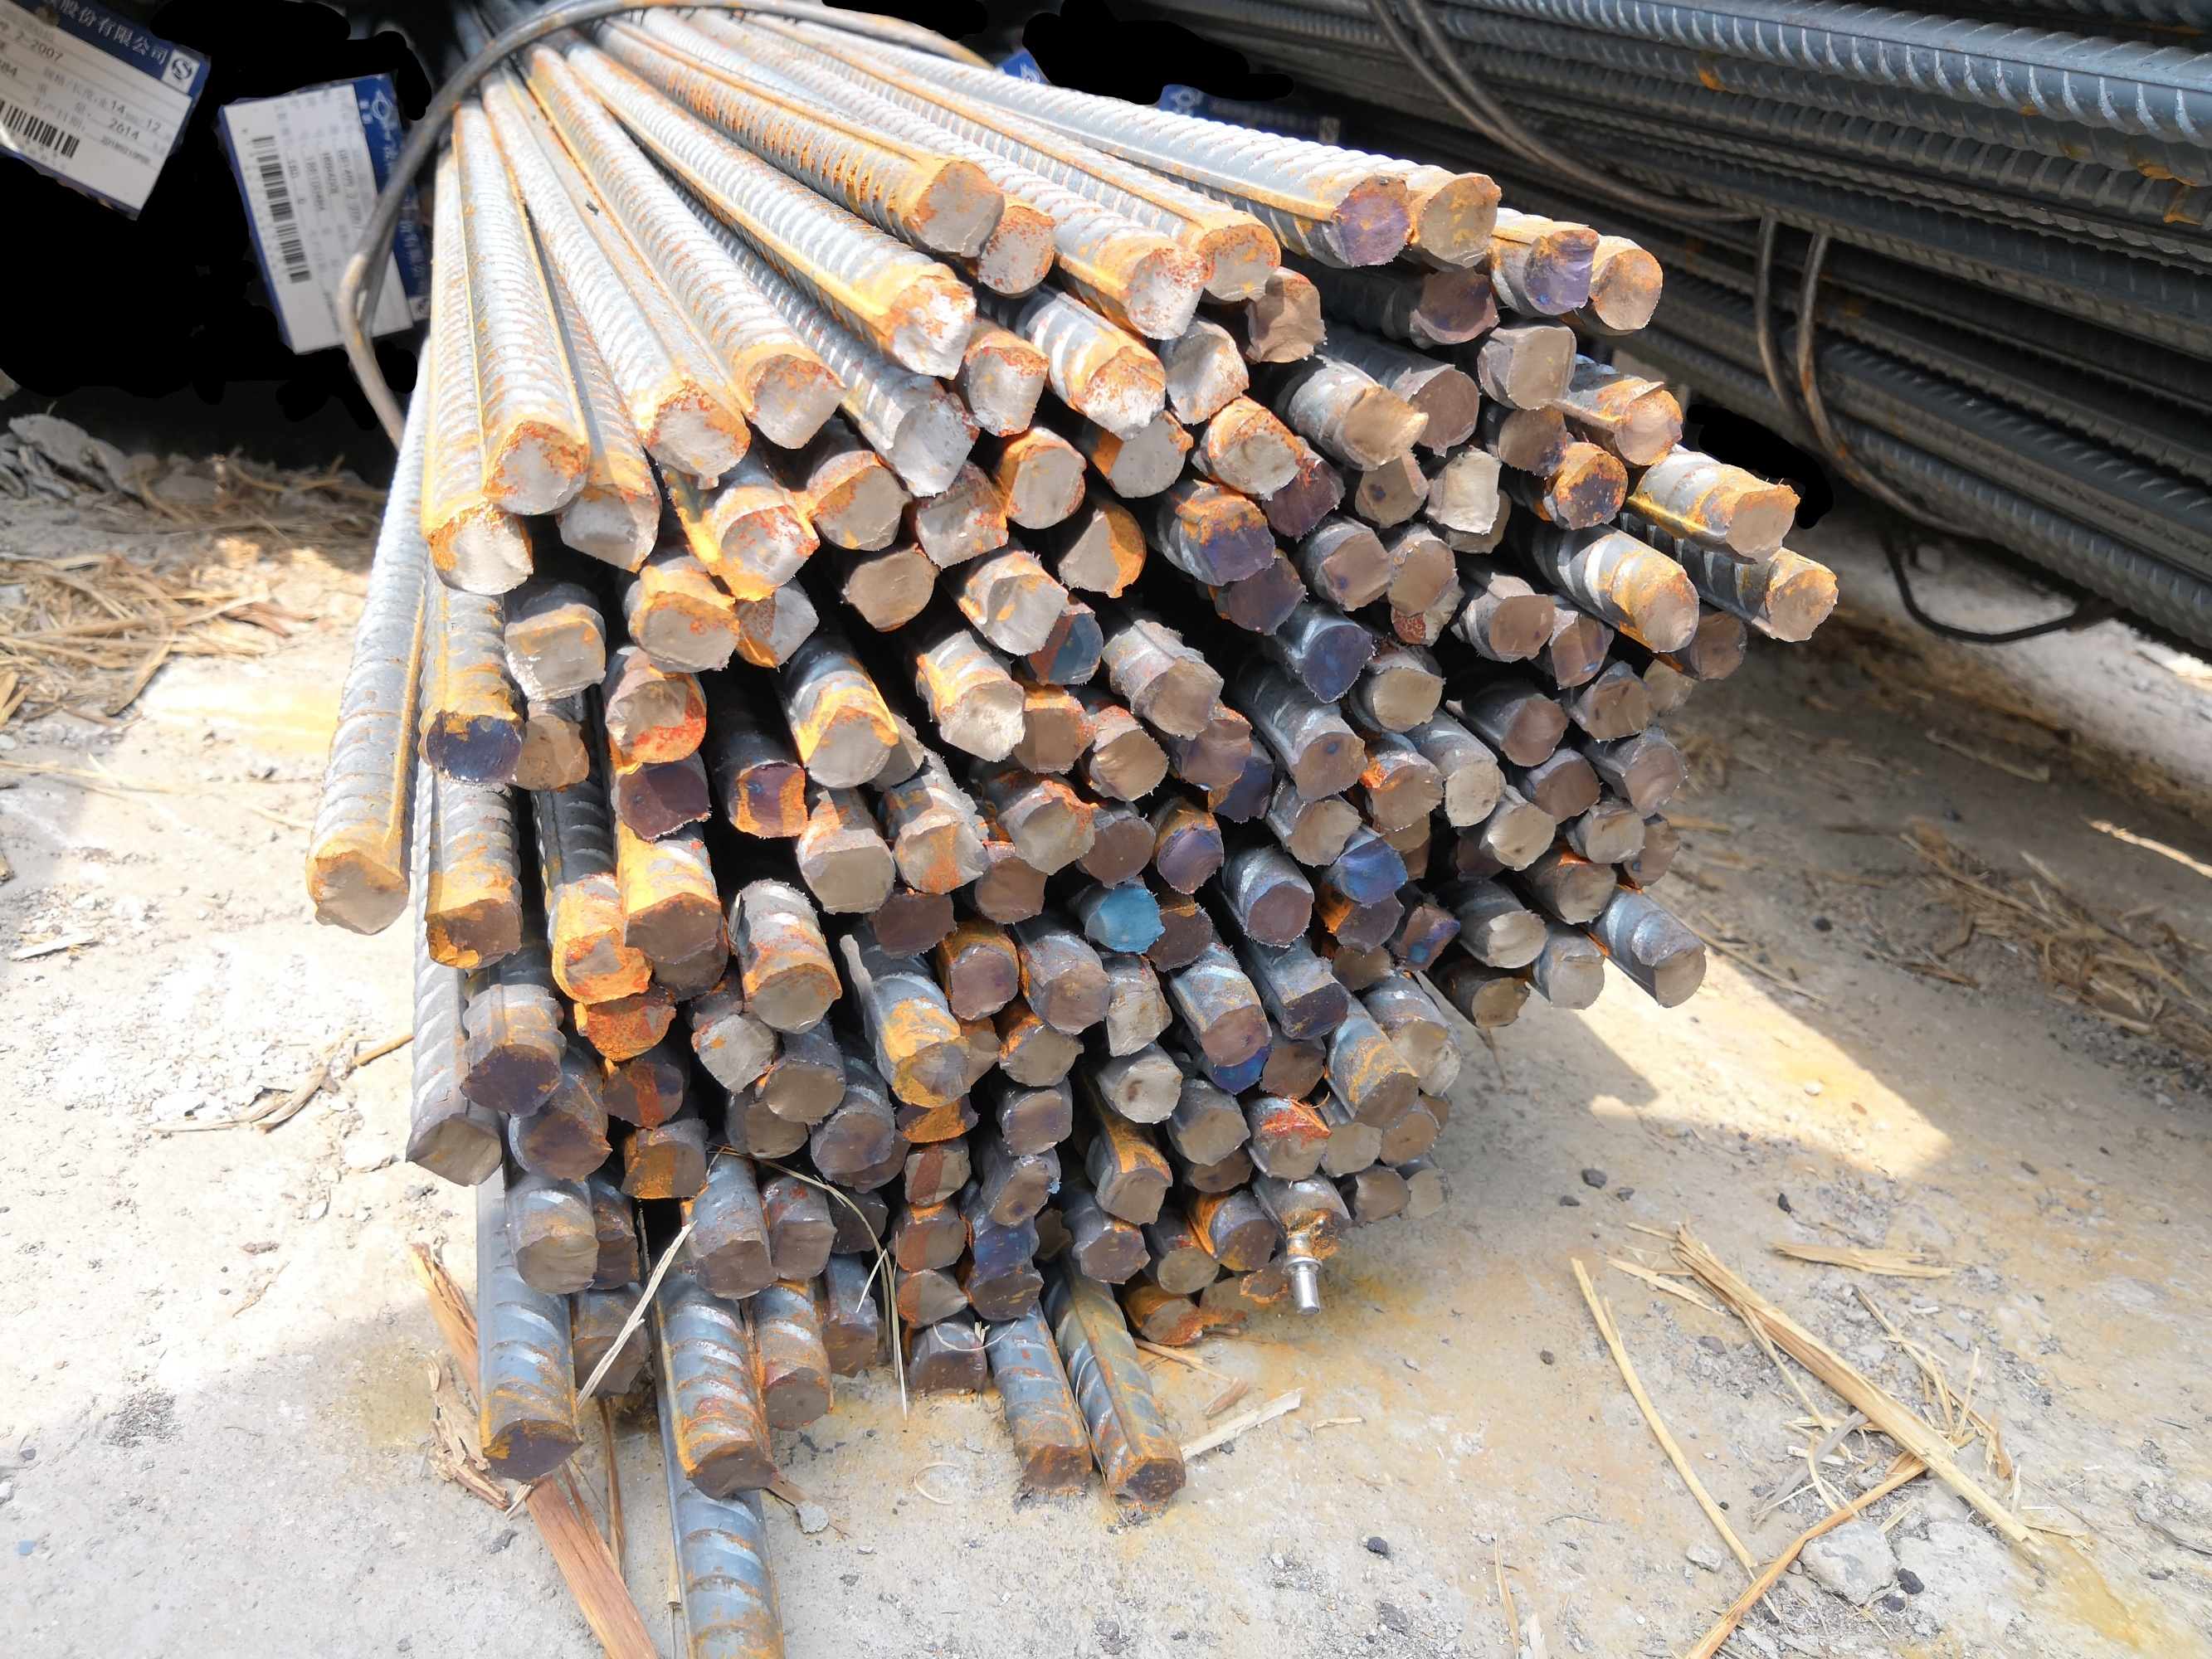rebar: (631, 378, 751, 491), (701, 502, 823, 606), (474, 416, 593, 521), (875, 390, 985, 498), (736, 350, 847, 455), (910, 458, 1013, 572), (424, 497, 537, 598), (873, 277, 981, 382), (901, 153, 1006, 261), (608, 748, 718, 845), (554, 479, 662, 577), (601, 667, 709, 765), (633, 586, 746, 676), (1316, 173, 1417, 272), (303, 847, 411, 938), (1124, 648, 1227, 742), (1208, 406, 1311, 500), (795, 699, 899, 791), (1328, 380, 1435, 471), (807, 462, 915, 551), (1112, 246, 1210, 343), (959, 340, 1055, 439), (500, 617, 608, 704), (837, 545, 945, 633), (506, 1101, 617, 1185), (418, 699, 526, 784), (1157, 331, 1253, 427), (966, 204, 1063, 298), (1096, 410, 1198, 500), (966, 572, 1072, 657), (995, 439, 1089, 535), (1079, 345, 1173, 441), (934, 676, 1032, 767), (1055, 509, 1152, 599), (455, 1040, 565, 1121), (1417, 166, 1503, 268), (1520, 214, 1602, 319), (1408, 260, 1506, 347), (743, 958, 845, 1040), (619, 889, 729, 965), (553, 925, 657, 1006), (1422, 444, 1508, 542), (896, 816, 995, 899), (725, 589, 824, 673), (727, 751, 814, 845), (1236, 279, 1330, 366), (1074, 873, 1170, 958), (1401, 362, 1487, 458), (570, 990, 682, 1063), (418, 896, 525, 972), (798, 840, 899, 920), (1260, 451, 1346, 545), (478, 1410, 582, 1486), (1288, 619, 1379, 706), (1217, 554, 1311, 638), (1313, 523, 1398, 613), (1192, 220, 1285, 303), (406, 1110, 506, 1187), (1719, 483, 1804, 570), (1009, 795, 1098, 878), (1499, 324, 1583, 413), (1583, 244, 1666, 333), (511, 708, 593, 798), (1014, 608, 1105, 690), (1002, 704, 1100, 779), (938, 939, 1023, 1025), (689, 1009, 776, 1093), (1192, 500, 1276, 587), (865, 889, 964, 962), (682, 1432, 783, 1504), (753, 1053, 849, 1127), (1086, 725, 1175, 805), (1166, 714, 1255, 795), (1612, 734, 1693, 823), (641, 934, 737, 1007), (1490, 397, 1576, 479), (1276, 791, 1365, 870), (1626, 568, 1705, 657), (593, 1058, 687, 1131), (692, 1234, 788, 1305), (1487, 692, 1572, 772), (1349, 450, 1438, 526), (809, 1100, 894, 1178), (1074, 812, 1159, 890), (1286, 727, 1372, 805), (1609, 383, 1687, 469), (994, 1019, 1089, 1089), (511, 1225, 601, 1298), (1576, 666, 1656, 748), (1365, 657, 1450, 734), (1762, 566, 1842, 645), (892, 1032, 974, 1108), (617, 1138, 709, 1206), (1365, 758, 1449, 833), (1389, 533, 1461, 620), (1138, 899, 1217, 978), (1480, 587, 1557, 667), (969, 852, 1051, 927), (1551, 450, 1626, 532), (760, 1211, 844, 1284), (1274, 1201, 1358, 1274), (1480, 798, 1564, 871), (758, 1363, 838, 1438), (1388, 897, 1462, 978), (889, 1265, 974, 1335), (1548, 606, 1618, 692), (1105, 1445, 1192, 1513), (1037, 958, 1112, 1037), (1074, 1216, 1154, 1290), (1103, 1058, 1185, 1129), (1686, 599, 1752, 687), (1201, 755, 1278, 829), (567, 1328, 645, 1401), (983, 1154, 1062, 1227), (1475, 901, 1553, 974), (1103, 985, 1178, 1060), (1241, 877, 1316, 951), (1394, 570, 1466, 648), (1527, 753, 1605, 824), (1170, 1103, 1253, 1169), (1096, 1157, 1173, 1229), (1330, 835, 1410, 903), (889, 1208, 973, 1272), (1002, 1084, 1074, 1159), (1198, 1002, 1276, 1070), (1330, 889, 1410, 955), (966, 1262, 1048, 1326), (1550, 856, 1621, 929), (1157, 821, 1227, 896), (835, 1133, 913, 1199), (739, 1093, 812, 1162), (1447, 486, 1517, 558), (868, 713, 927, 796), (1016, 1434, 1093, 1499), (1440, 751, 1503, 829), (899, 1089, 985, 1147), (1259, 1033, 1328, 1103), (910, 1340, 988, 1401), (971, 1209, 1049, 1270), (1346, 1070, 1424, 1131), (1276, 978, 1354, 1039), (1257, 1119, 1328, 1185), (816, 1312, 880, 1385), (1625, 814, 1686, 890), (903, 1141, 971, 1209), (1346, 1162, 1414, 1230), (1541, 945, 1609, 1012), (1386, 1007, 1450, 1079), (1647, 938, 1712, 1009), (1579, 802, 1649, 866), (1314, 1114, 1386, 1176), (1201, 1040, 1281, 1096), (1374, 1110, 1447, 1171), (1635, 653, 1700, 721), (1210, 1215, 1281, 1276), (587, 1222, 643, 1297), (1447, 823, 1510, 889), (955, 1016, 1006, 1098), (1138, 1291, 1208, 1351), (1325, 938, 1398, 993), (1152, 1241, 1224, 1297), (1194, 1274, 1262, 1331), (1393, 1166, 1457, 1225), (1469, 972, 1534, 1030), (823, 1202, 891, 1256), (1185, 1147, 1259, 1194), (1027, 1202, 1077, 1270), (1241, 1251, 1299, 1309), (1372, 807, 1440, 854), (1421, 1039, 1464, 1107), (1398, 836, 1445, 885)
